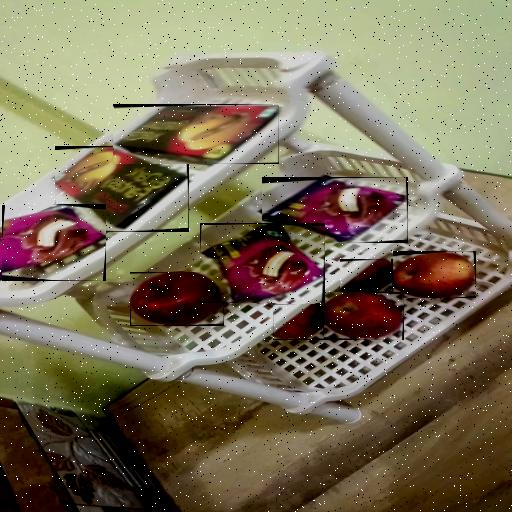Apple: (130, 272, 224, 326), (393, 251, 476, 298), (324, 292, 404, 340), (273, 304, 324, 340), (340, 259, 393, 292)
Choco Fills: (55, 146, 189, 232), (112, 104, 278, 164)
Choco Pie: (200, 223, 325, 303), (262, 177, 408, 243), (2, 205, 106, 281)
